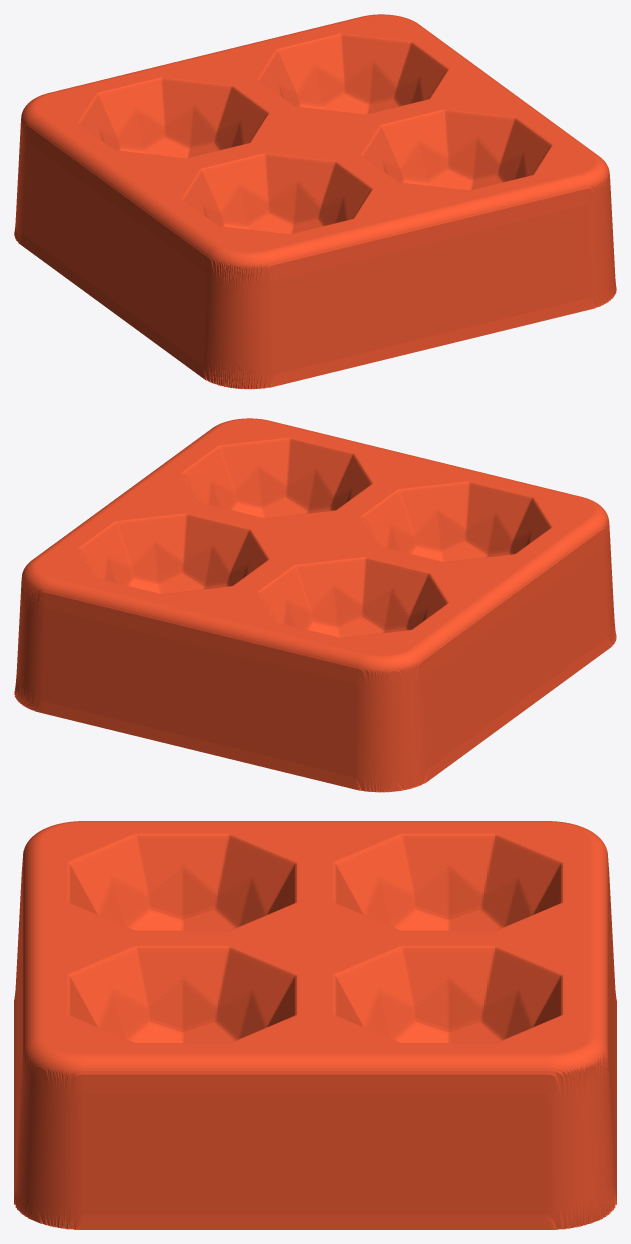
File: mold.glb
The picture shows the model from 3 angles, top to bottom: view 1: azimuth 30°, elevation 25°; view 2: azimuth 150°, elevation 25°; view 3: azimuth 270°, elevation 25°; orthographic projection. The views are drawn at different scales.
Visible parts, largest first — view 1: geometry_0; view 2: geometry_0; view 3: geometry_0.
Part boxes in pixels (left/top/right/bottom): geometry_0: left=14, top=14, right=616, bottom=389; geometry_0: left=14, top=418, right=616, bottom=792; geometry_0: left=14, top=821, right=616, bottom=1229.
Bounding box in the file's own units: 0.078 × 0.0234 × 0.078.
